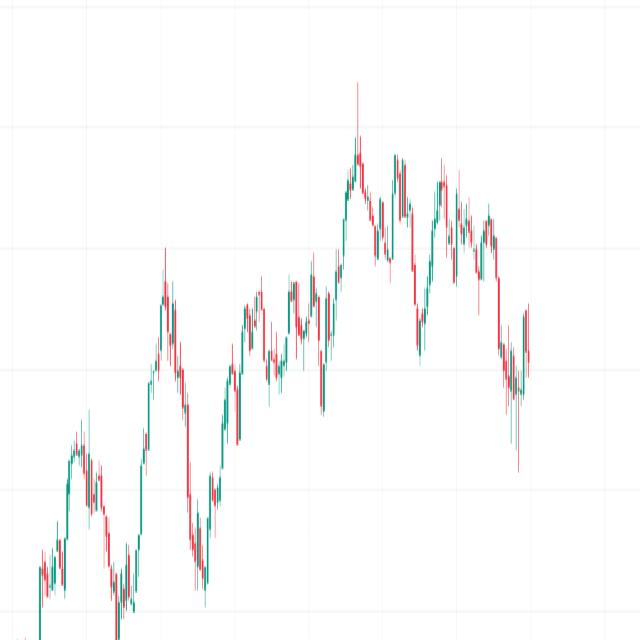Triple-Top: (423, 154, 507, 296)
